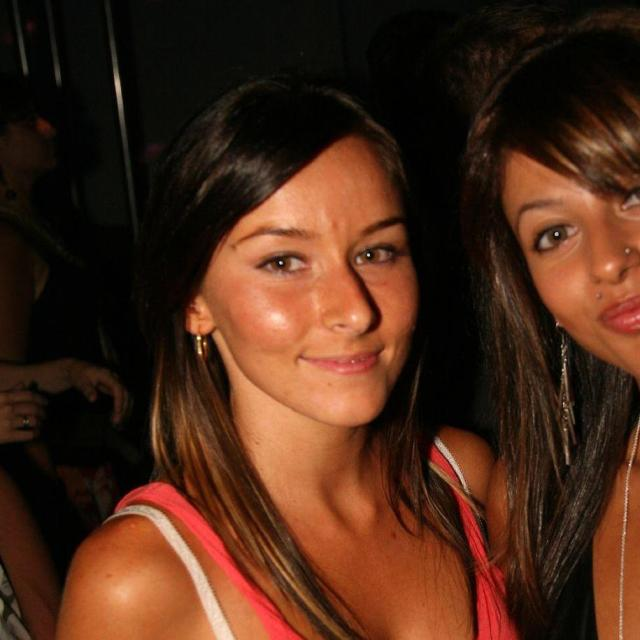no-glass: (531, 206, 640, 252), (248, 247, 393, 280)
